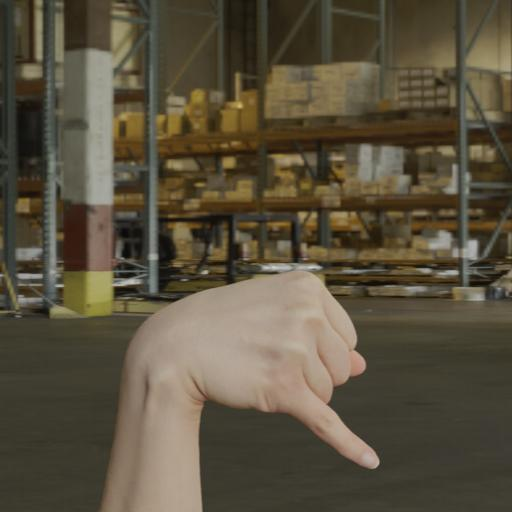J: (108, 262, 390, 476)
